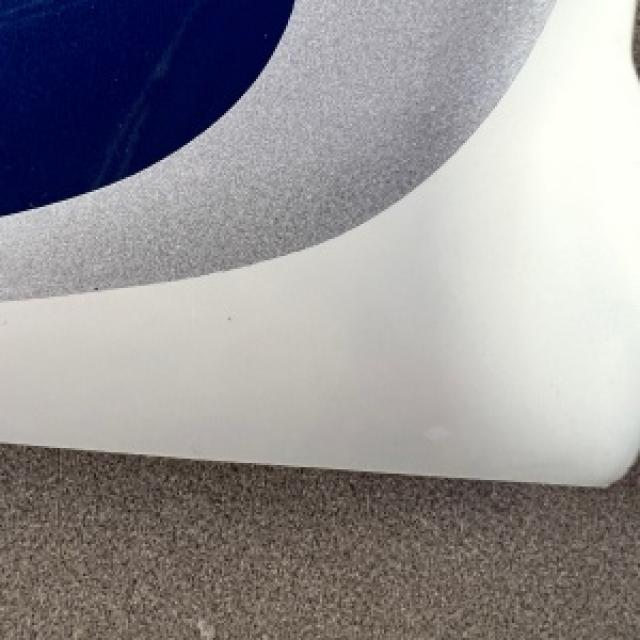healthy: (0, 0, 638, 484)
